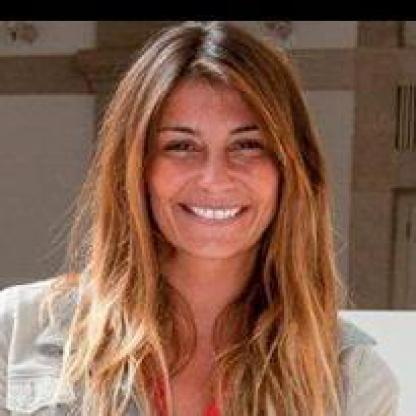long-hair: (65, 256, 341, 314)
